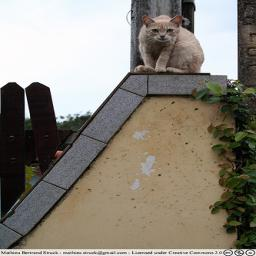catnose: (158, 34, 167, 40)
